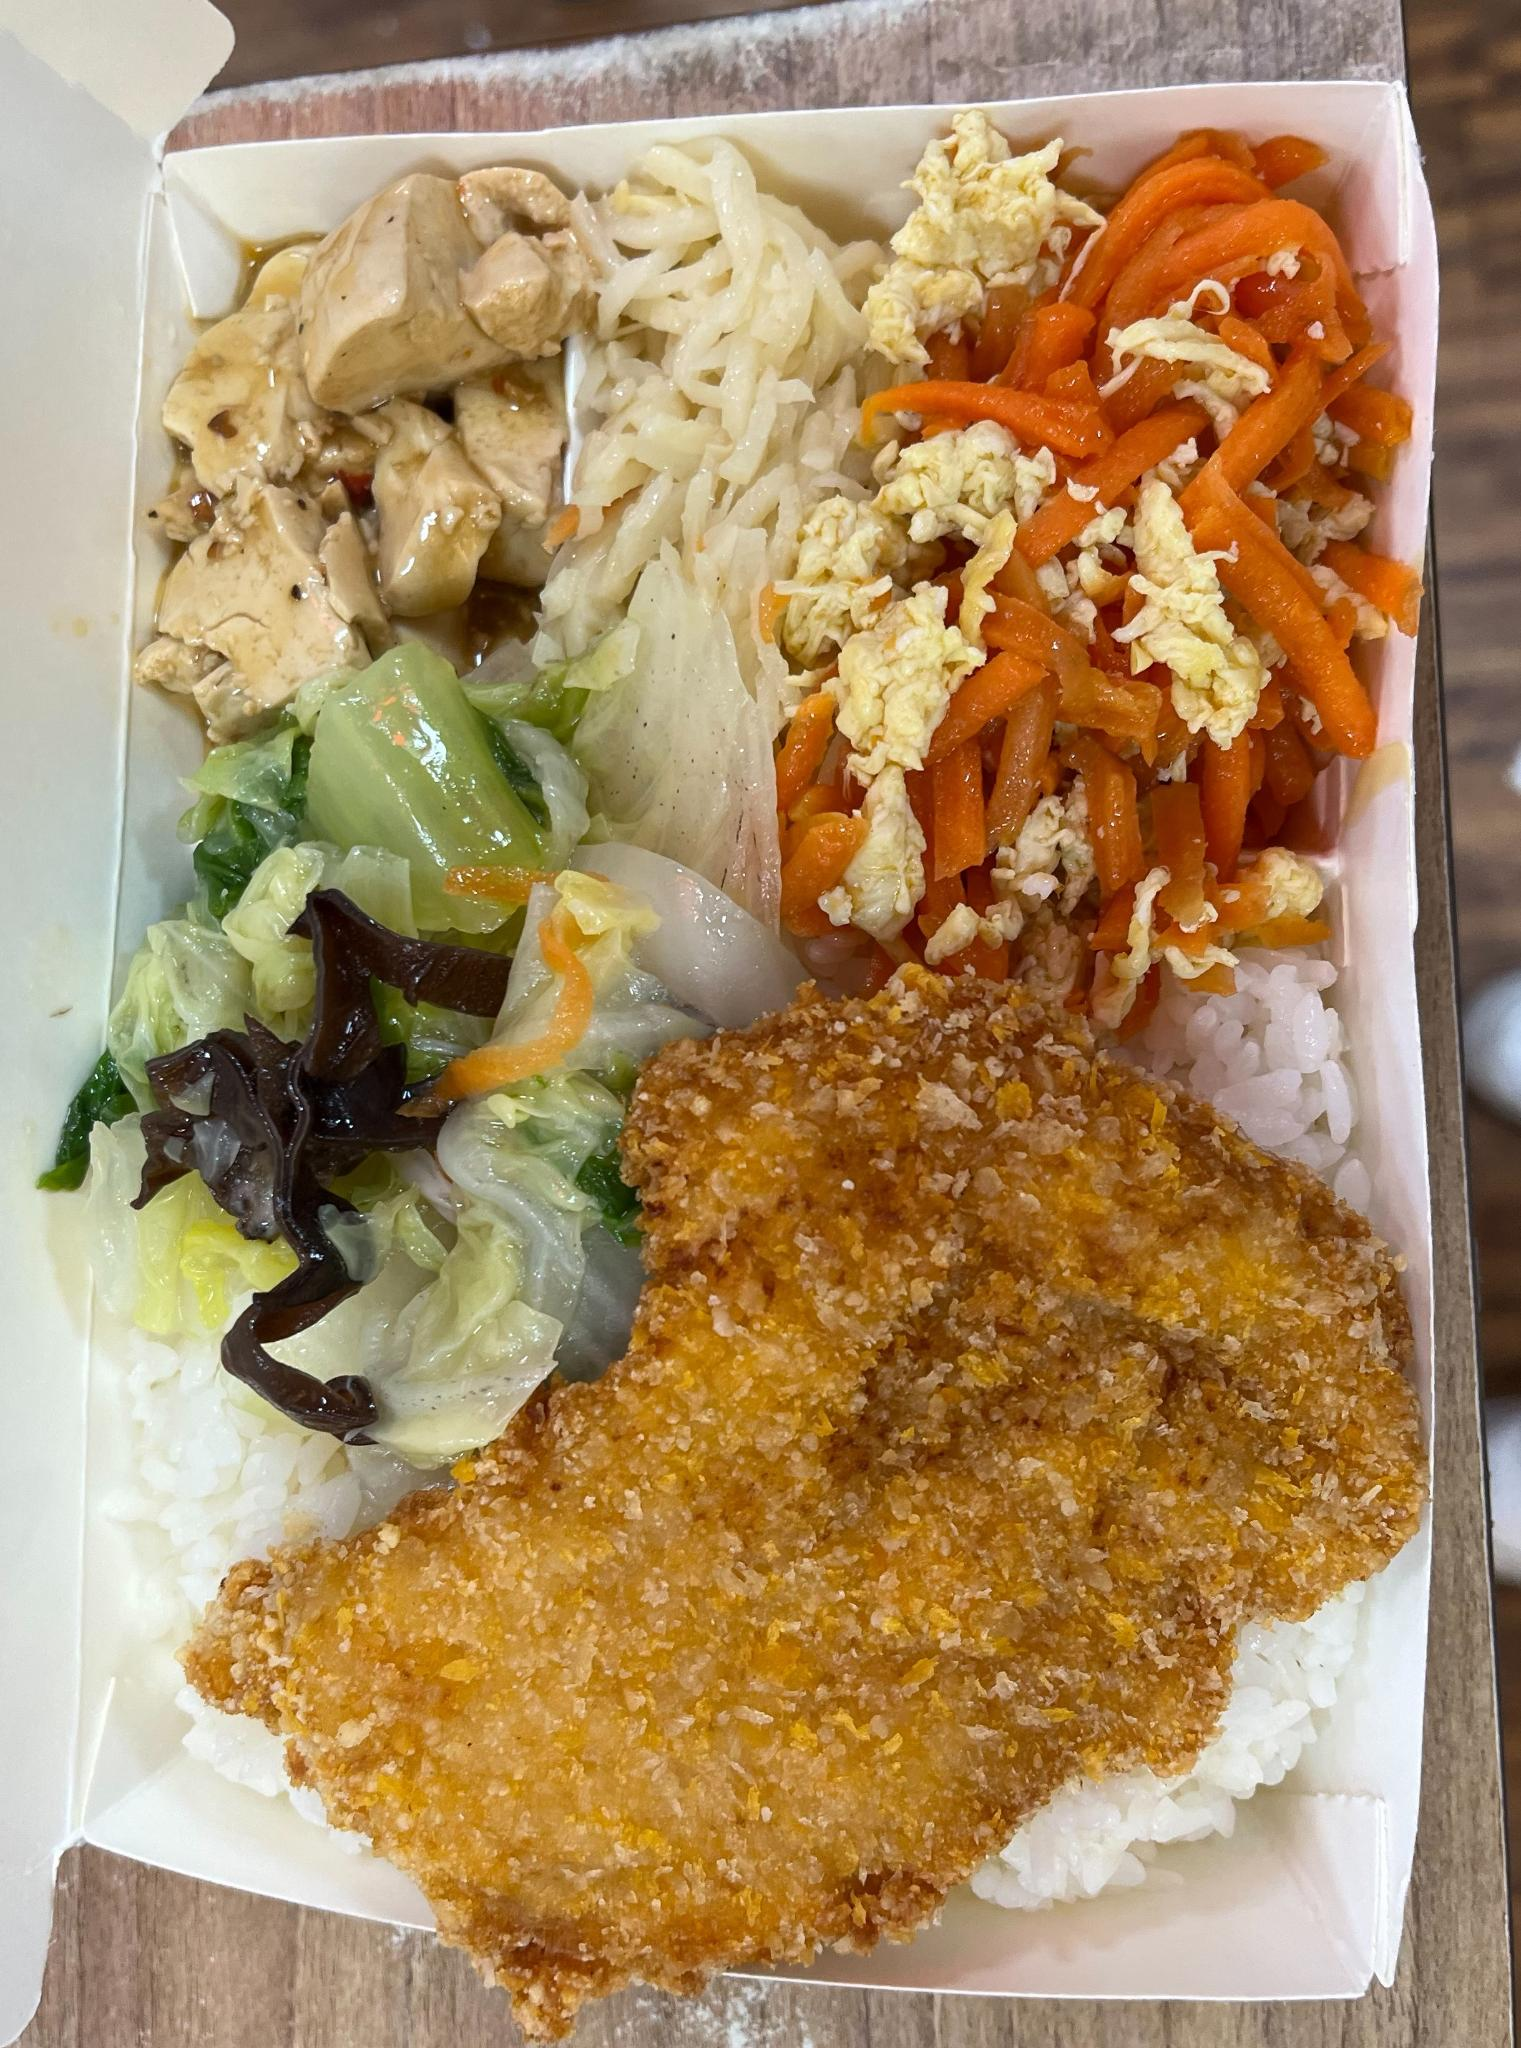big grilled chicken leg: (45, 14, 1468, 2038)
big herbal chicken leg: (105, 970, 1380, 1872)
braised fish fillet: (828, 158, 1388, 960), (89, 708, 705, 1430), (152, 182, 570, 780), (558, 126, 855, 896)
braised pork: (220, 963, 1416, 2008)
